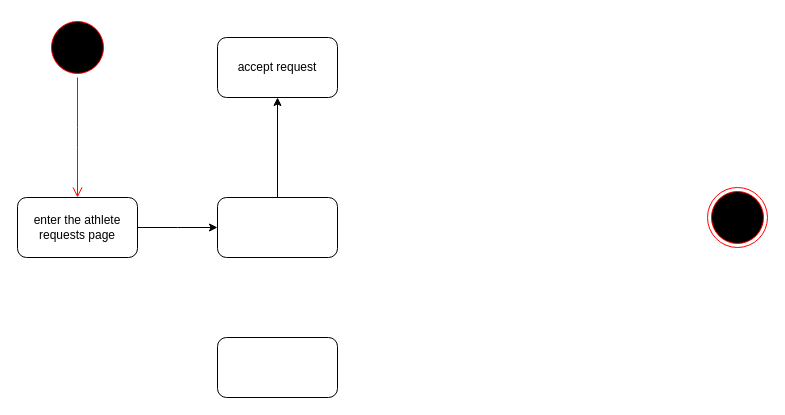
This 785x415 diagram has some shape labels left out. The shapes that lost their labels are listed below. From the top down, each one's centre as x and y in pixels, then its label:
the point at 277,227: select an athlete
the point at 277,367: decline request
